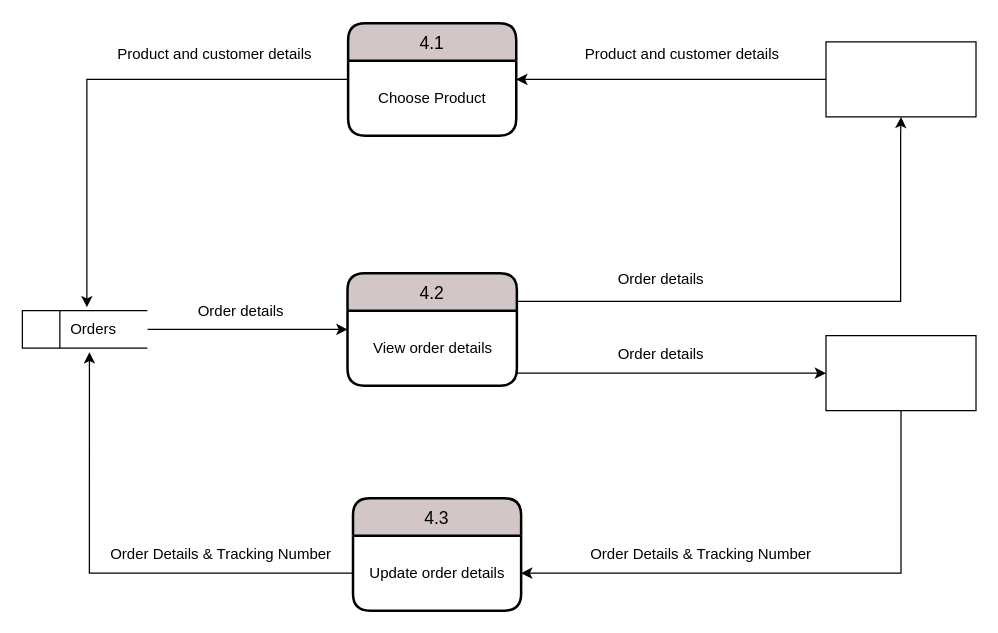
This 998x633 diagram has some shape labels left out. Each missing label, with the centre of its shape:
"Customer" goes at point 900,79.
"Seller" goes at point 900,372.
